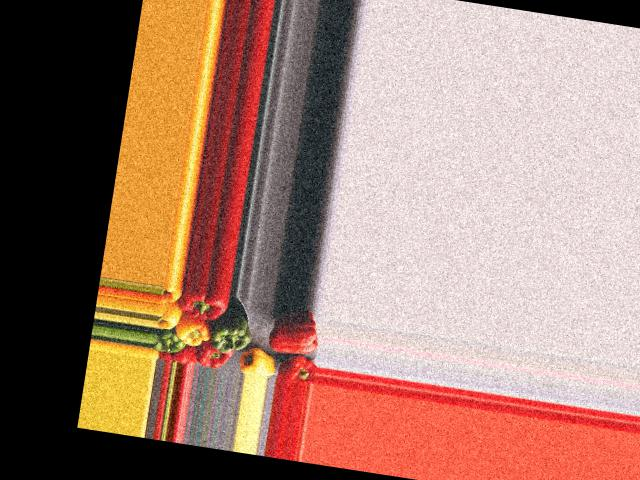bell_pepper: (277, 353, 318, 381)
